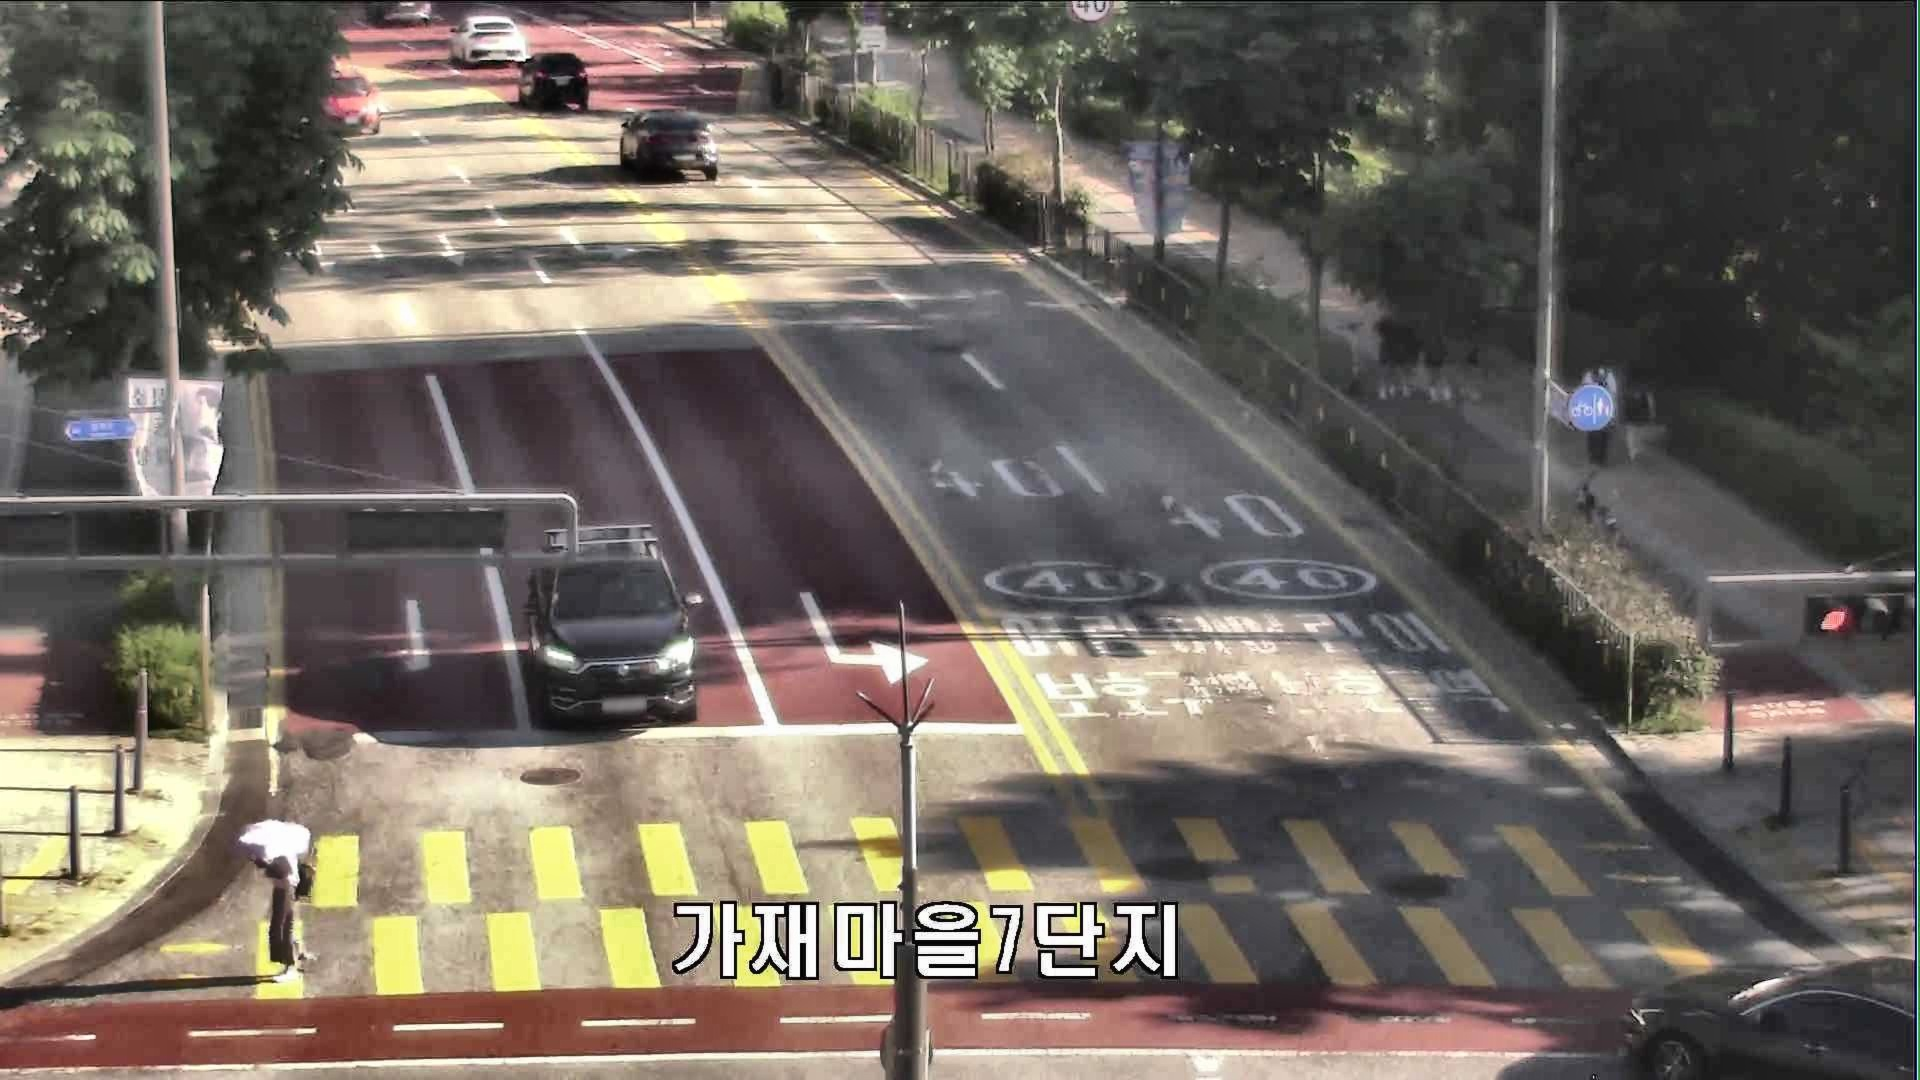sidewalk: (1575, 360, 1617, 468), (1615, 355, 1658, 463), (1370, 311, 1407, 400), (1419, 313, 1455, 402)
um_crosswalk: (231, 811, 320, 985)
